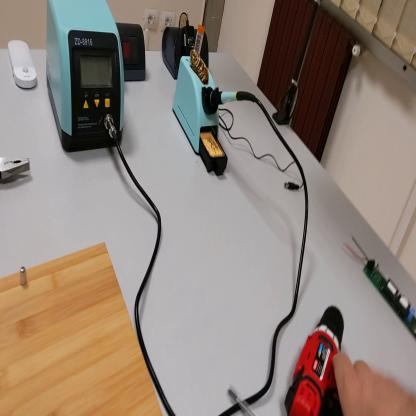electric screwdriver: (284, 309, 345, 416)
hand: (333, 350, 416, 416)
high voltage board: (340, 228, 416, 342)
pliers: (1, 155, 31, 184)
screwdriver-: (229, 391, 257, 415)
socket: (164, 25, 210, 79), (118, 20, 149, 83)
welder base: (175, 20, 231, 180)
welder probe tip: (213, 89, 260, 108)
welder station: (46, 1, 126, 153)
working area: (2, 241, 164, 416)
